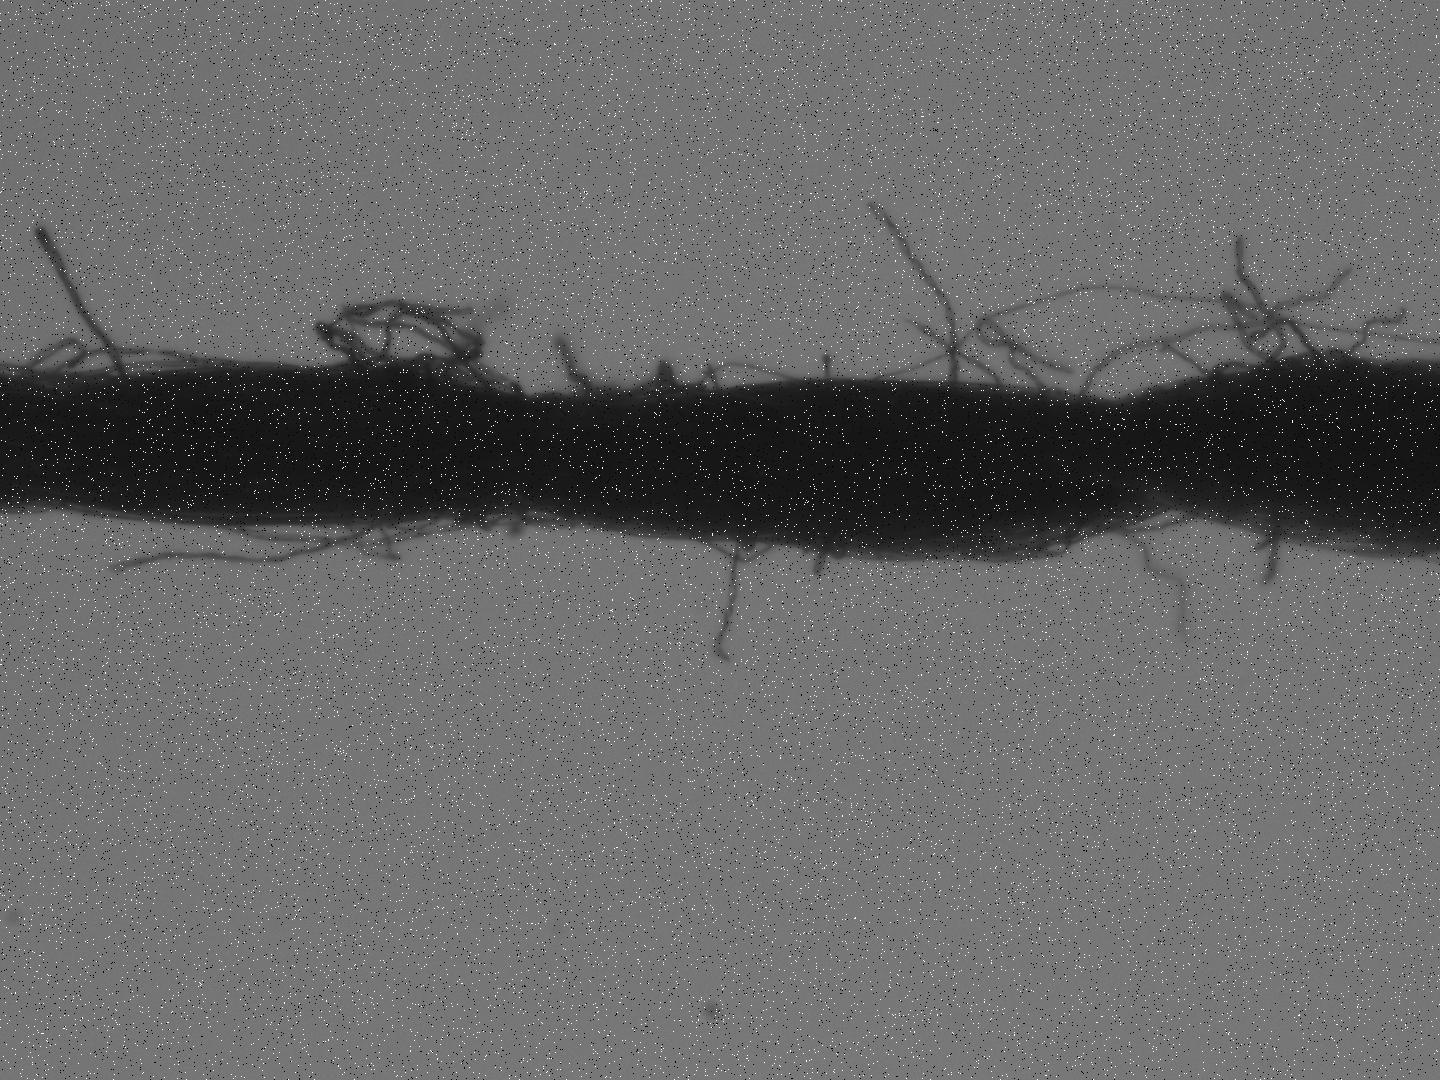loop_fiber: (345, 313, 523, 393), (323, 299, 484, 373), (357, 307, 488, 386), (52, 343, 213, 376), (1250, 313, 1325, 360), (691, 360, 799, 391), (1103, 508, 1204, 533), (506, 503, 570, 531), (632, 361, 685, 393)
protruding_fiber: (862, 201, 962, 390), (107, 522, 381, 579), (33, 227, 129, 378), (1235, 236, 1287, 365), (719, 538, 745, 665), (553, 334, 601, 402), (1265, 514, 1281, 588), (821, 354, 831, 382)
